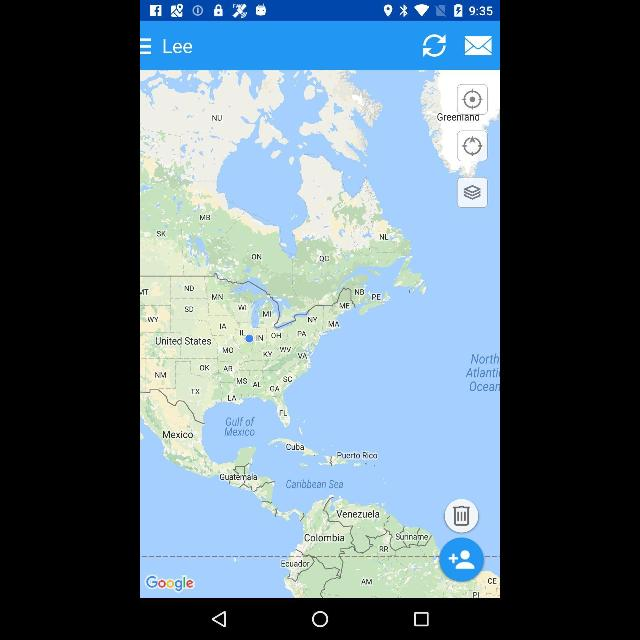button: (441, 538, 483, 580)
icon: (462, 32, 494, 58), (419, 31, 446, 60), (460, 88, 484, 112), (460, 136, 484, 158), (452, 504, 470, 526), (462, 184, 482, 203), (140, 32, 154, 59), (412, 611, 430, 627), (312, 611, 328, 627), (212, 610, 226, 628)
map: (140, 69, 500, 595)
panel: (140, 596, 500, 640)
text: (160, 38, 196, 58)
toolbar: (141, 23, 499, 68)
uppertaskbar: (141, 1, 499, 22)
